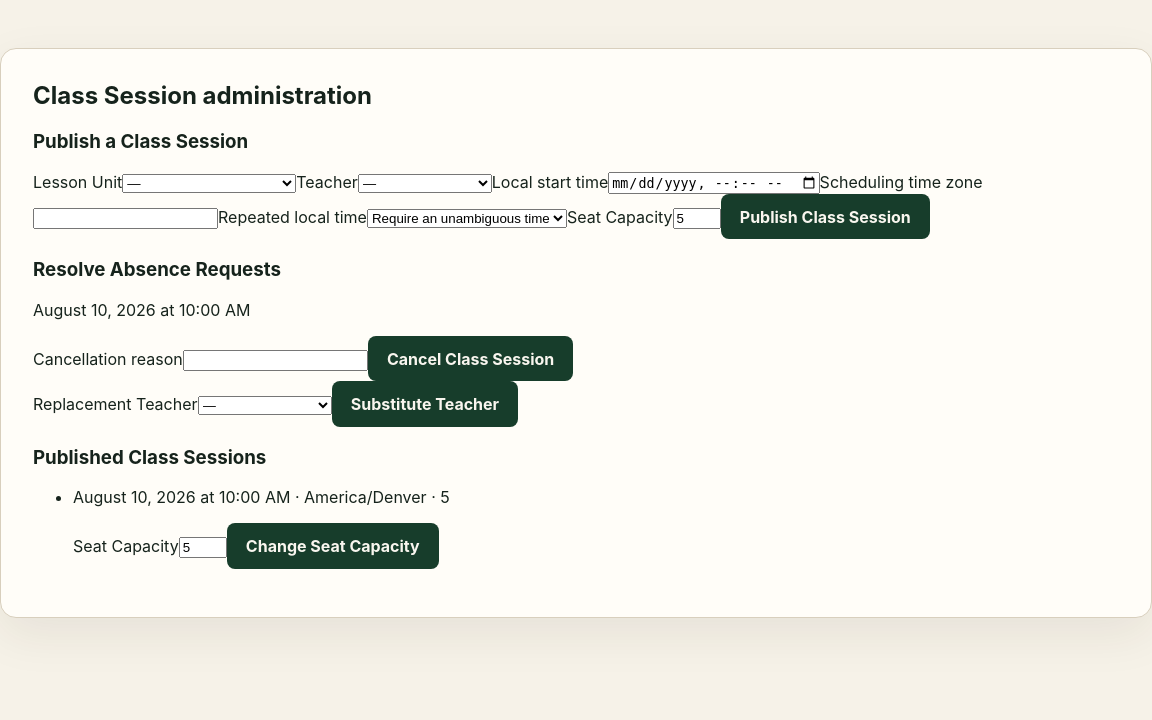
Test case: Platform Administrator Class Session journey › resolves an Absence Request through Teacher Substitution
Select "Riley Replacement" in the dropdown labelled "Replacement Teacher" at (264, 406), box [198, 396, 332, 415]
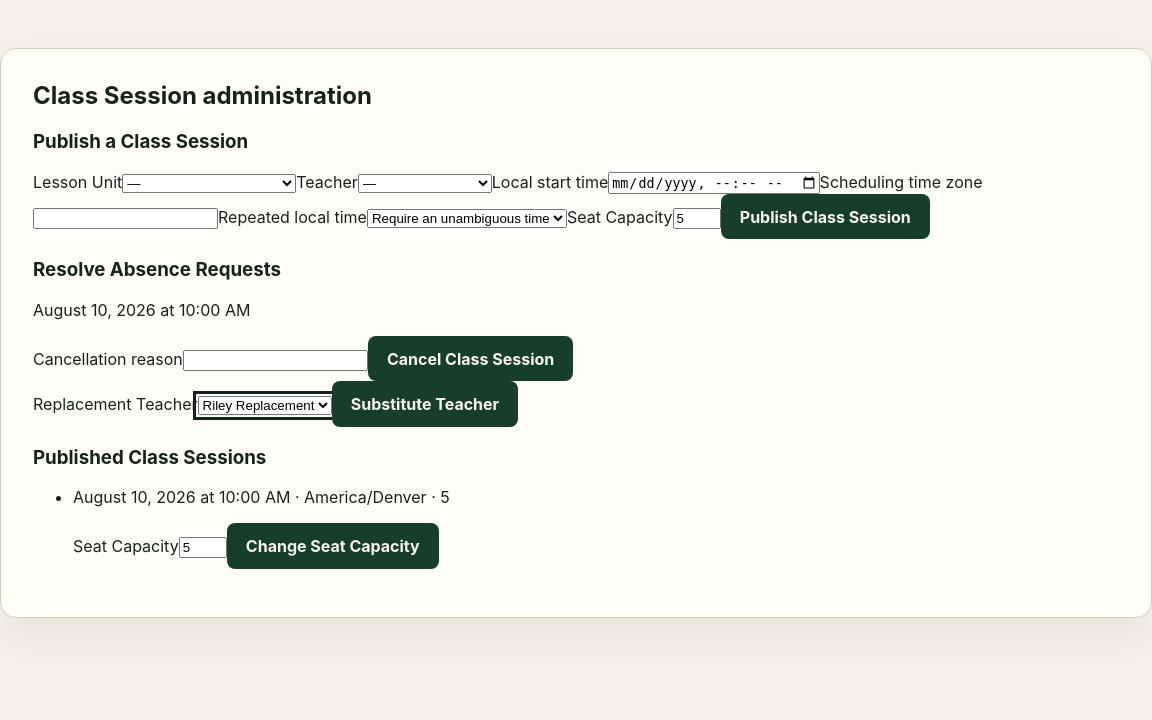
Click the button "Substitute Teacher" at (425, 404), box [332, 381, 518, 427]
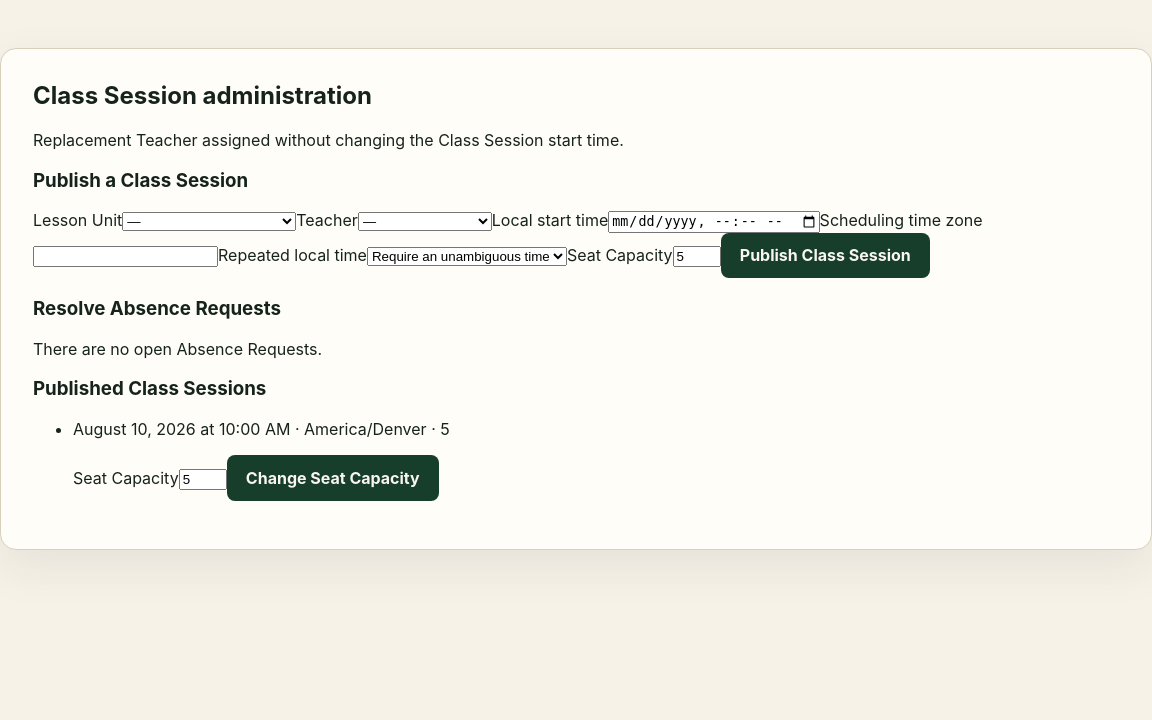
Expected: the message reads "Replacement Teacher assigned without changing the Class Session start time.", [33, 130, 624, 150]
